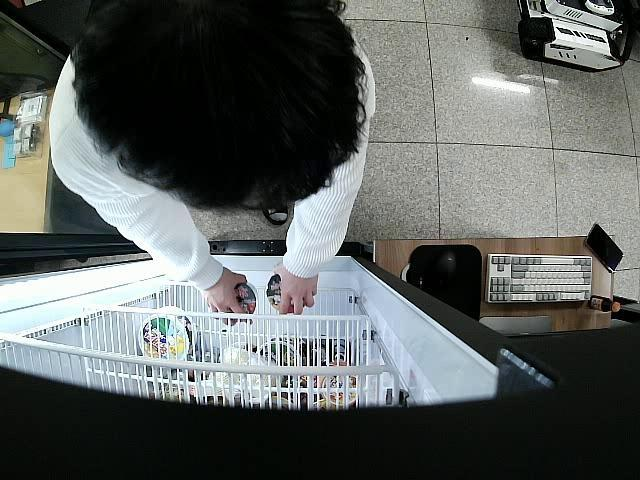08_buldak_S: (268, 270, 298, 316), (232, 281, 258, 320)
